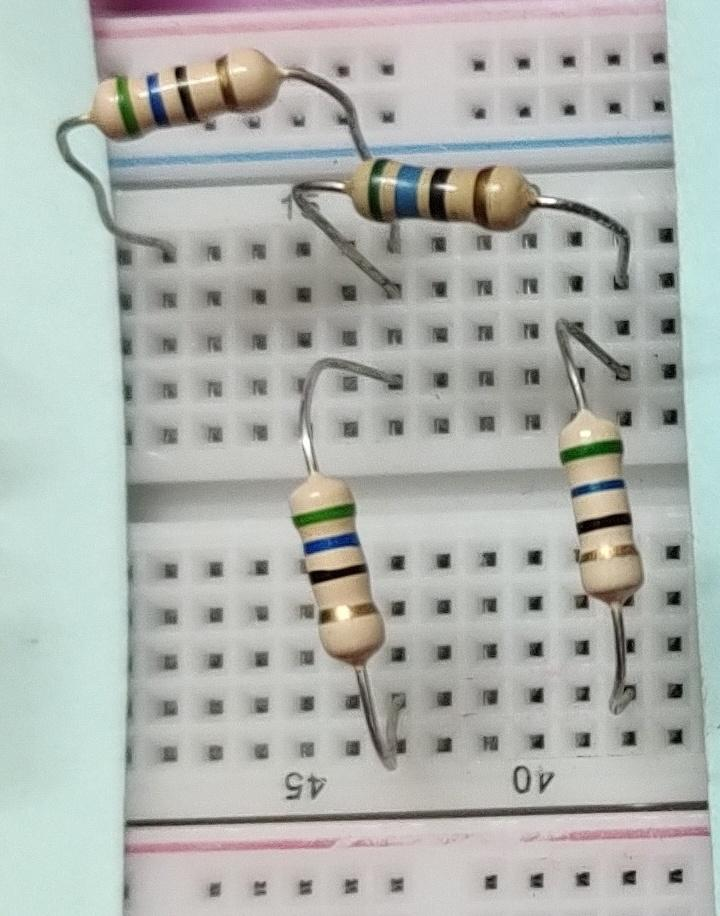resistor: (341, 141, 554, 253), (553, 405, 665, 616), (283, 471, 399, 670), (79, 47, 302, 143)
